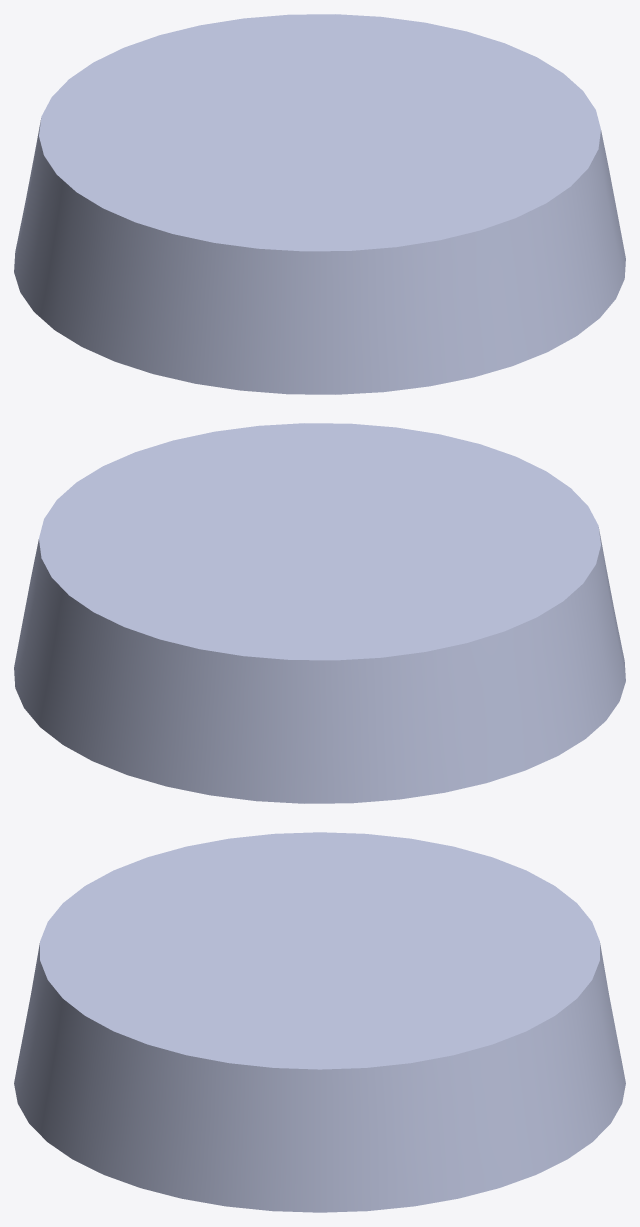
Rendered from 60_tapa_corcho.glb.
3 renders of one model, top to bottom at view 1: azimuth 30°, elevation 25°; view 2: azimuth 150°, elevation 25°; view 3: azimuth 270°, elevation 25°, orthographic.
Visible parts, largest first — view 1: TAPA CORCHO 60; view 2: TAPA CORCHO 60; view 3: TAPA CORCHO 60.
Boxes of the visible parts, x1,y1,x2,y2 form: TAPA CORCHO 60: (14, 14, 625, 394); TAPA CORCHO 60: (14, 423, 625, 803); TAPA CORCHO 60: (14, 832, 625, 1212).
Size of the model in its own units: 0.0628 by 0.015 by 0.0628.
